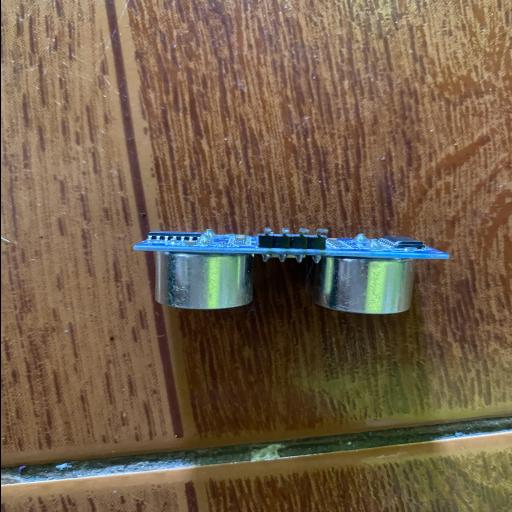Ultrasonic Sensor: (132, 228, 450, 314)
